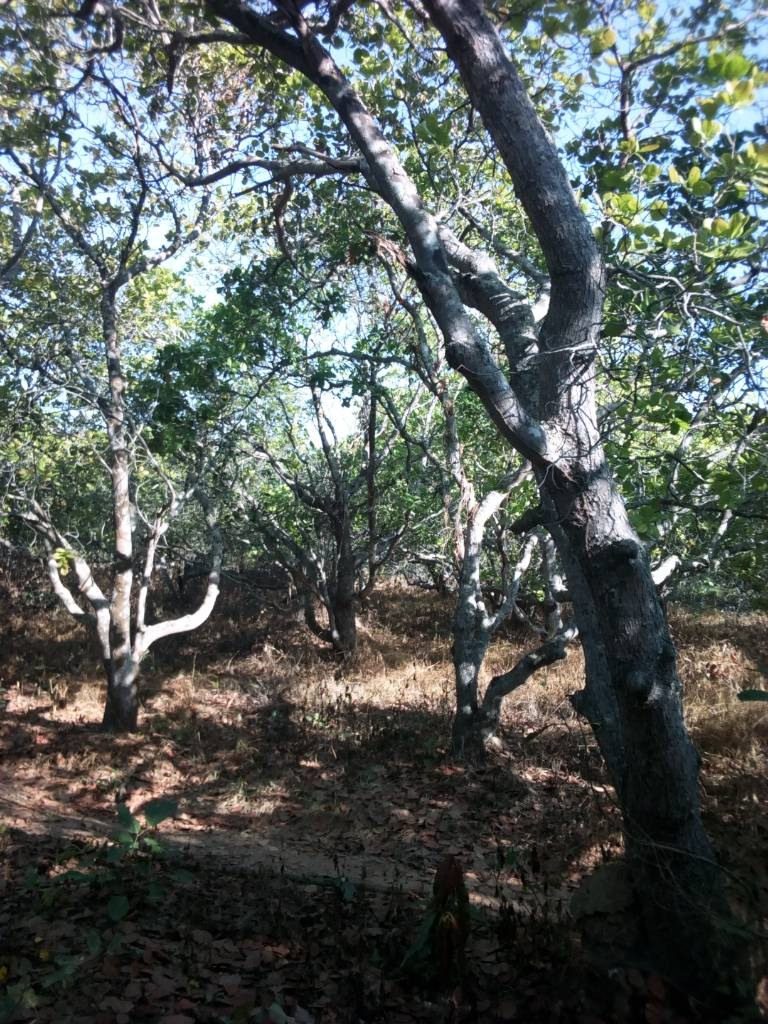Termites: (560, 488, 685, 903)
